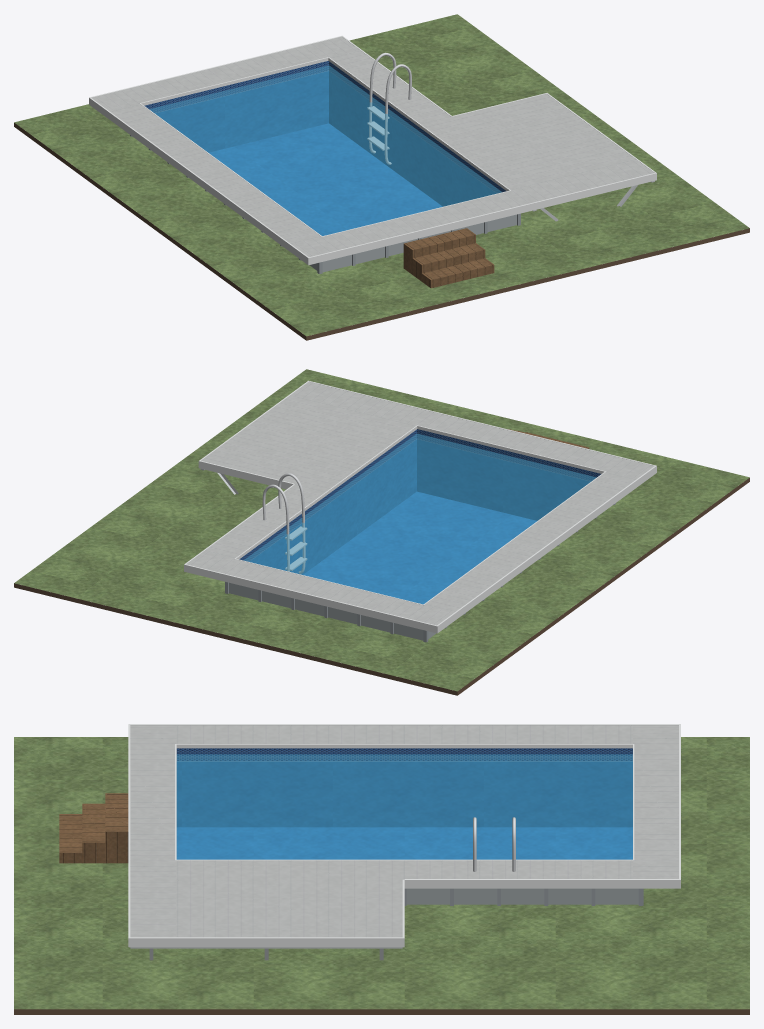
Rendered from kayak-pool-12x20-gray-l-rec-nofence.5ffb1bb24c.glb.
3 views of the same model, one above another, from view 1: azimuth 30°, elevation 25°; view 2: azimuth 150°, elevation 25°; view 3: azimuth 270°, elevation 25° (orthographic). The views are drawn at different scales.
Parts seen in each view (by area): view 1: ground, water, deck, liner_wall, liner_floor, fascia, steps, soil, wall, steel; view 2: ground, water, deck, liner_wall, liner_floor, fascia, soil, wall, steel; view 3: ground, water, deck, liner_wall, liner_floor, fascia, soil, steps, wall, stud.
Part boxes in pixels (<box>): ground: <box>14,14,749,336</box>; water: <box>149,65,501,235</box>; deck: <box>92,37,653,257</box>; liner_wall: <box>144,61,506,206</box>; liner_floor: <box>209,123,442,235</box>; fascia: <box>89,35,656,265</box>; steps: <box>403,228,494,288</box>; soil: <box>14,122,749,340</box>; wall: <box>309,214,516,272</box>; steel: <box>367,52,411,164</box>; ground: <box>14,369,749,691</box>; water: <box>244,433,596,604</box>; deck: <box>186,382,654,625</box>; liner_wall: <box>239,429,601,574</box>; liner_floor: <box>303,491,536,604</box>; fascia: <box>184,380,656,633</box>; soil: <box>14,477,749,695</box>; wall: <box>229,582,435,640</box>; steel: <box>262,473,307,573</box>; ground: <box>14,737,749,1009</box>; water: <box>176,754,632,859</box>; deck: <box>130,725,678,937</box>; liner_wall: <box>176,748,632,827</box>; liner_floor: <box>176,827,632,859</box>; fascia: <box>128,724,680,947</box>; soil: <box>14,1009,749,1014</box>; steps: <box>59,793,128,863</box>; wall: <box>406,888,638,904</box>; stud: <box>130,947,402,960</box>.
Size of the model in its own units: 8.53 by 1.9 by 9.75.
12 materials, 5 textured.
